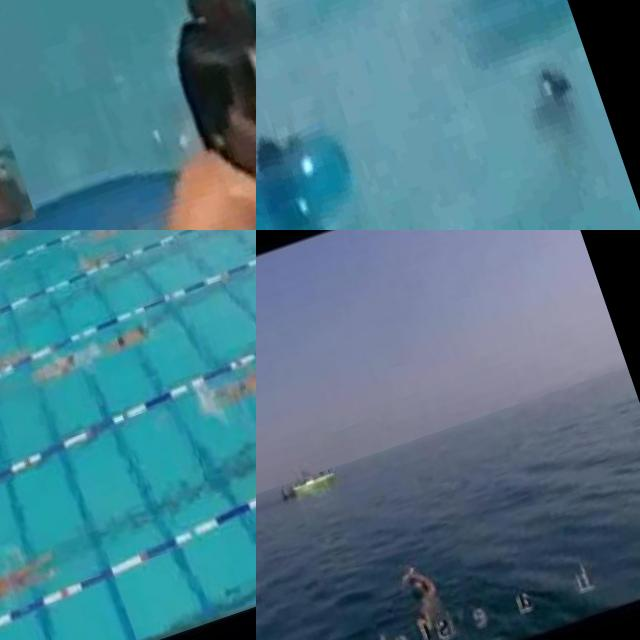drowning: (257, 191, 421, 230)
swimming: (91, 0, 256, 230), (0, 538, 65, 608), (393, 560, 448, 622), (208, 351, 256, 412), (66, 242, 116, 286), (100, 314, 150, 357), (33, 348, 80, 388), (0, 336, 26, 377)
